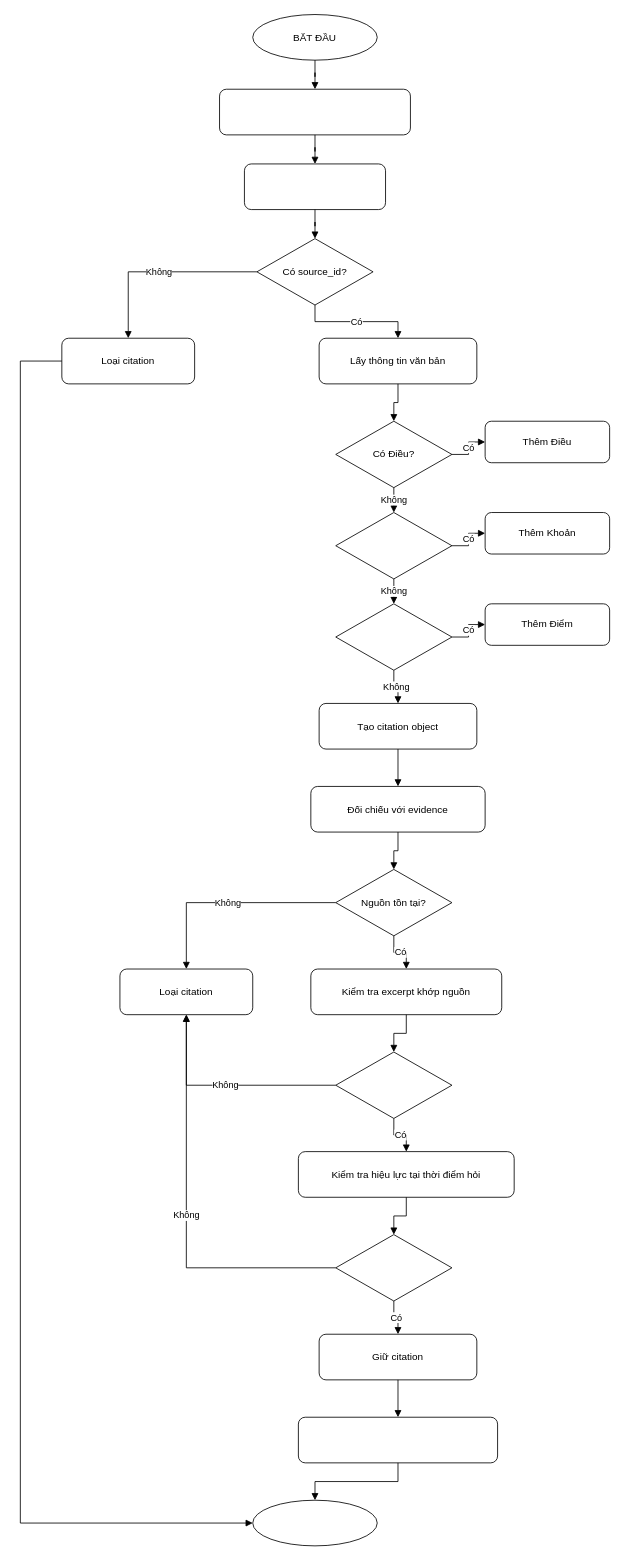
The diagram is 624 pixels wide and 1560 high, and some of its shapes have lost their labels. The shapes that lost their labels are listed below. From the top down, each one's centre as x and y in pixels, then its label:
At (314,111): "Nhận căn cứ được sử dụng".
At (315,186): "Đọc metadata".
At (393,545): "Có Khoản?".
At (393,636): "Có Điểm?".
At (393,1084): "Excerpt hợp lệ?".
At (393,1267): "Đúng thời điểm?".
At (398,1439): "Gắn citation vào câu trả lời".
At (314,1522): "KẾT THÚC".
